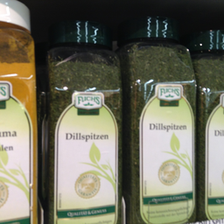spices: (47, 13, 123, 224), (124, 10, 197, 224)
